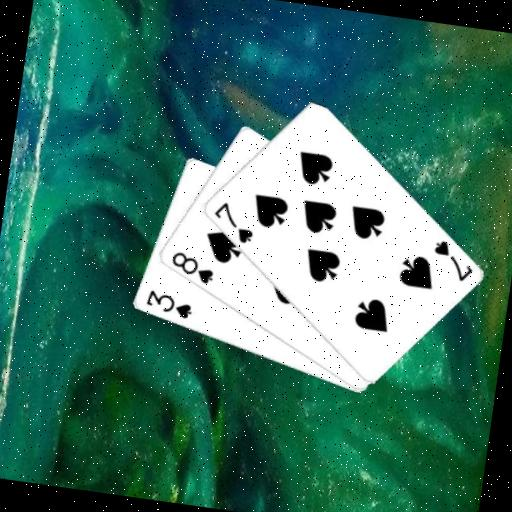3S: (141, 286, 195, 321)
7S: (426, 236, 478, 285), (207, 198, 258, 246)
8S: (165, 248, 218, 288)
